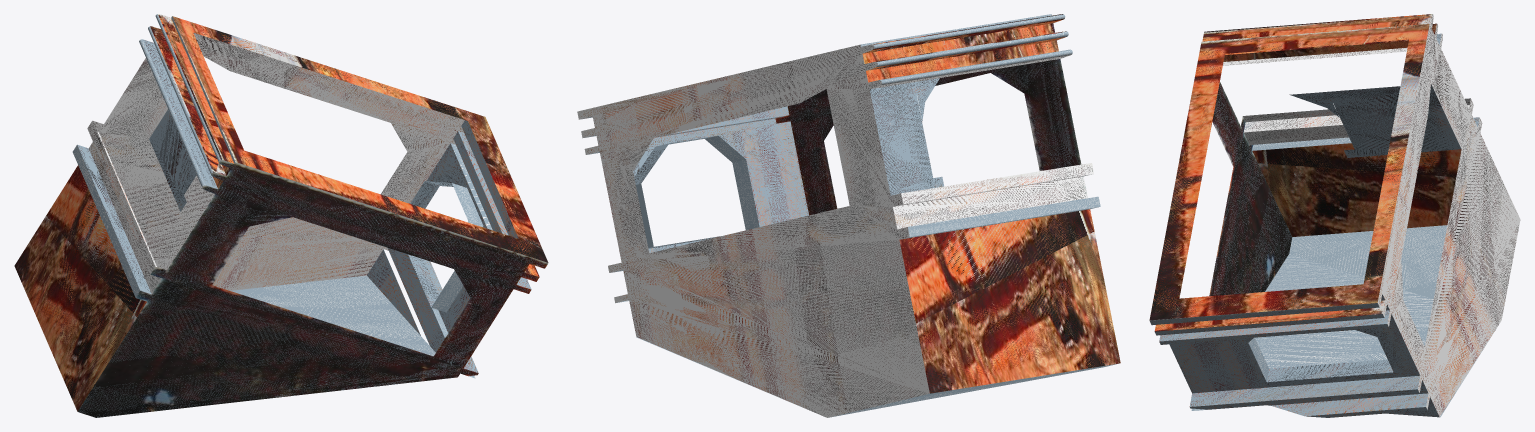
The model's file is Floating Red Plastic Box Bisected.fbx.
3 renders of one model, left to right at view 1: azimuth 30°, elevation 25°; view 2: azimuth 150°, elevation 25°; view 3: azimuth 270°, elevation 25°, orthographic. The views are drawn at different scales.
Visible parts, largest first — view 1: Model; view 2: Model; view 3: Model.
Part boxes in pixels (bbox=[...]): Model: bbox=[14, 14, 548, 417]; Model: bbox=[577, 14, 1120, 417]; Model: bbox=[1149, 14, 1520, 417].
Size of the model in its own units: 154 by 104 by 114.
